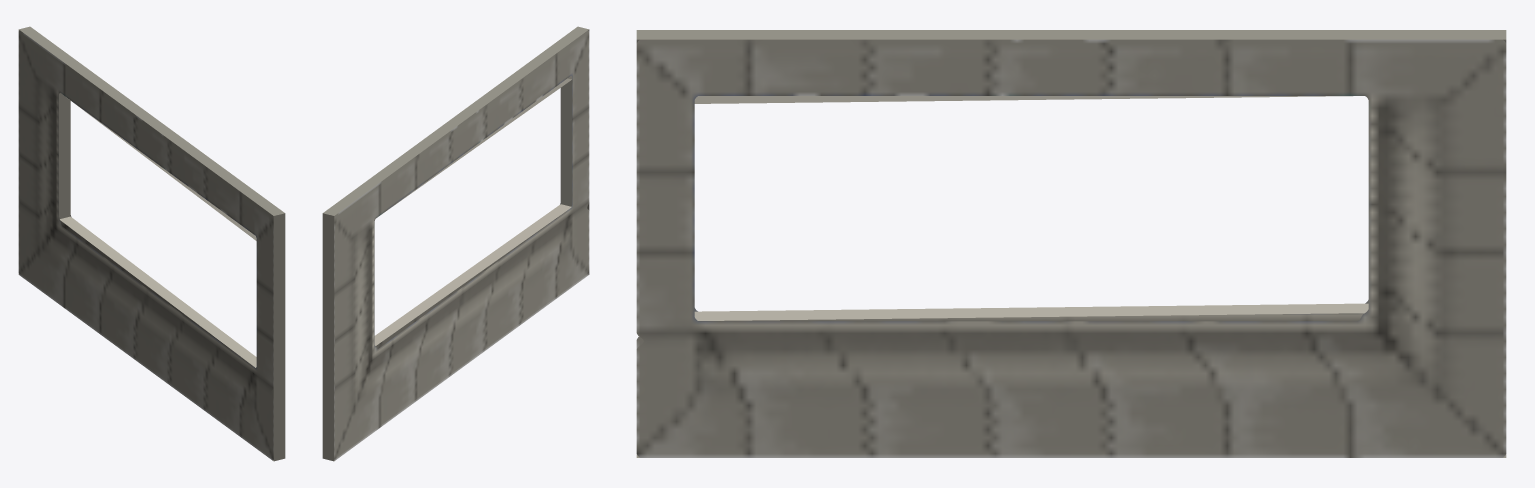
Rendered from pz_native_fixtures_windows_church_80_frame.obj.
3 renders of one model, left to right at view 1: azimuth 30°, elevation 25°; view 2: azimuth 150°, elevation 25°; view 3: azimuth 270°, elevation 25°, orthographic. The views are drawn at different scales.
Parts seen in each view (by area): view 1: pz_native_fixtures_windows_church_80_frame; view 2: pz_native_fixtures_windows_church_80_frame; view 3: pz_native_fixtures_windows_church_80_frame.
Part boxes in pixels (<box>): pz_native_fixtures_windows_church_80_frame: <box>18,26,285,461</box>; pz_native_fixtures_windows_church_80_frame: <box>322,26,589,461</box>; pz_native_fixtures_windows_church_80_frame: <box>636,30,1506,457</box>.
Size of the model in its own units: 0.04 by 0.875 by 1.58.
1 material, 1 textured.
